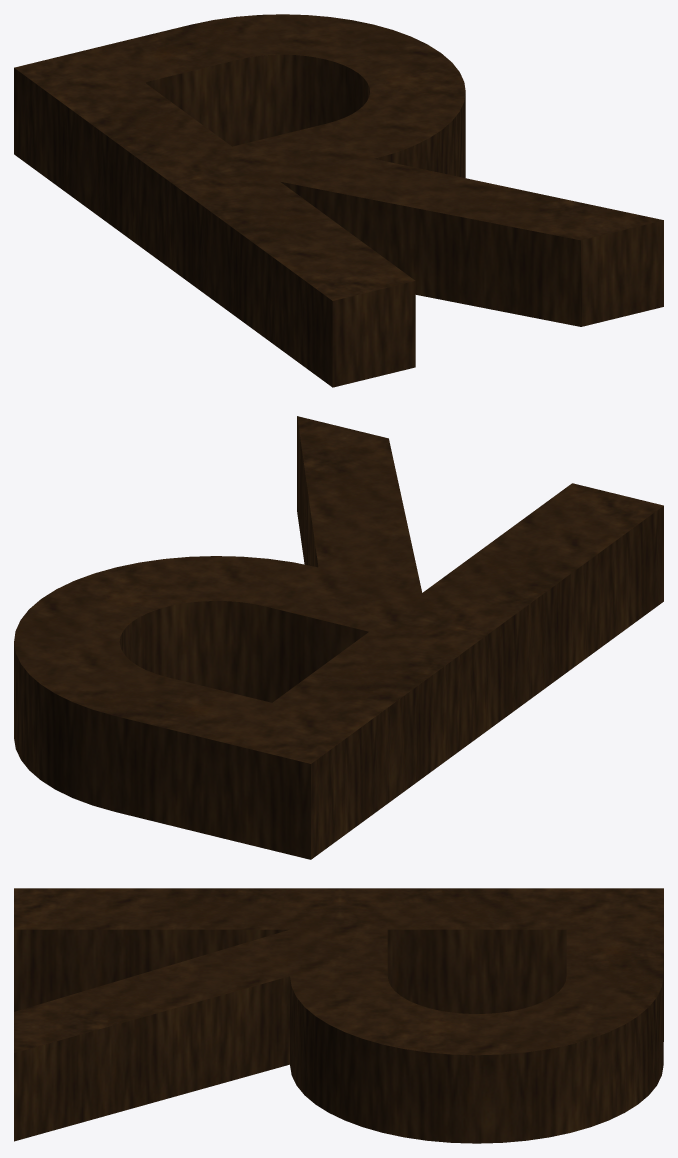
File: LetterR.obj
The picture shows the model from 3 angles, top to bottom: view 1: azimuth 30°, elevation 25°; view 2: azimuth 150°, elevation 25°; view 3: azimuth 270°, elevation 25°; orthographic projection. The views are drawn at different scales.
Parts seen in each view (by area): view 1: LetterR; view 2: LetterR; view 3: LetterR.
Boxes of the visible parts, left/top/right/bottom form: LetterR: left=14, top=14, right=663, bottom=387; LetterR: left=14, top=416, right=663, bottom=859; LetterR: left=14, top=888, right=663, bottom=1143.
Size of the model in its own units: 0.6075 by 0.15 by 1.
